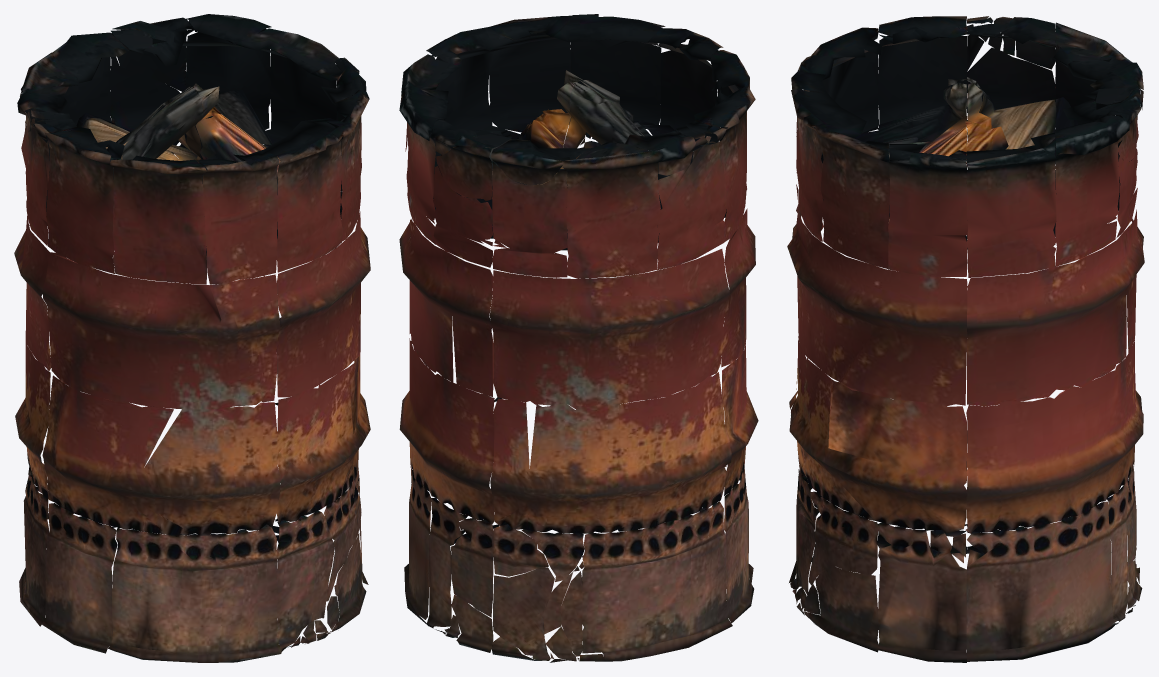
File: drum.glb
3 views of the same model, side by side, from view 1: azimuth 30°, elevation 25°; view 2: azimuth 150°, elevation 25°; view 3: azimuth 270°, elevation 25° (orthographic).
Visible parts, largest first — view 1: geometry_0; view 2: geometry_0; view 3: geometry_0.
Part boxes in pixels (x1=…): geometry_0: x1=14, y1=14, x2=370, y2=662; geometry_0: x1=399, y1=14, x2=758, y2=662; geometry_0: x1=787, y1=16, x2=1144, y2=662.
Size of the model in its own units: 0.5703 by 0.8986 by 0.5691.
1 material, 1 textured.
